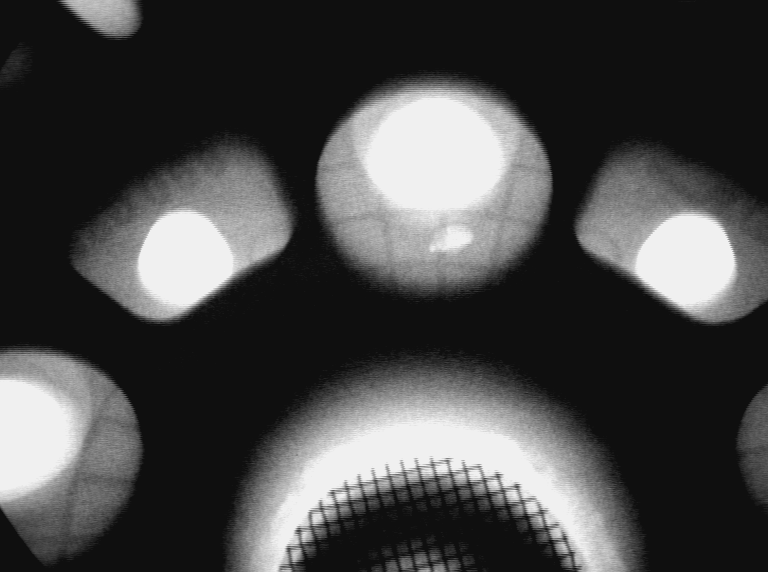defect: (426, 220, 480, 260)
